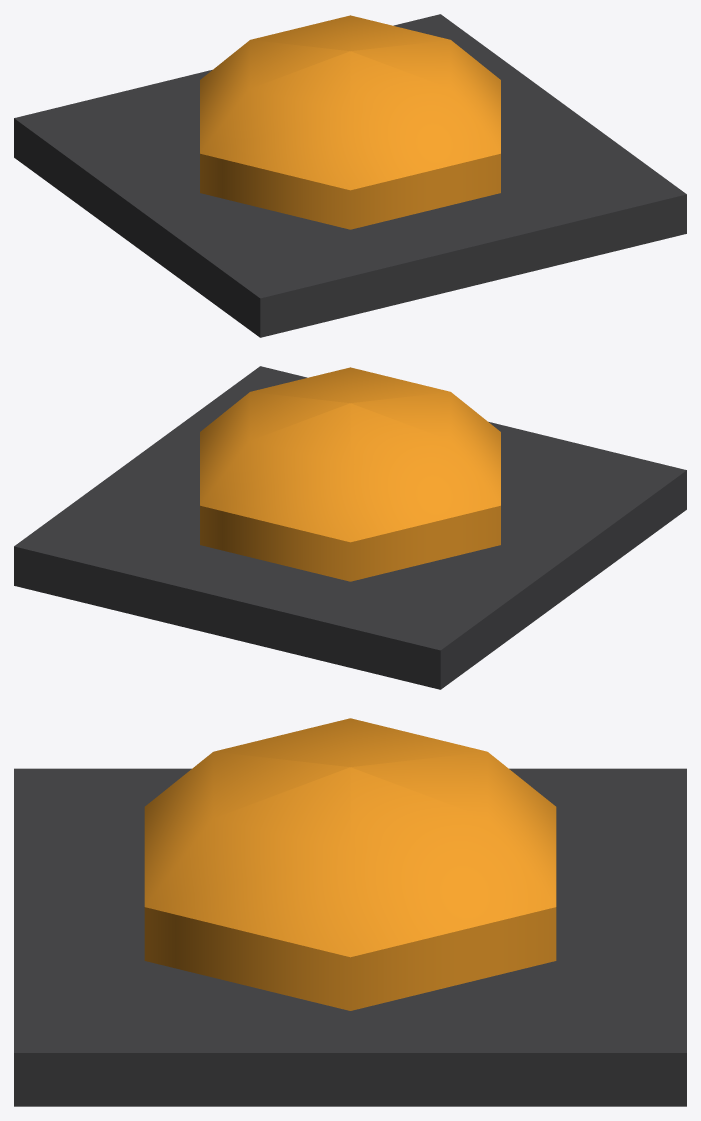
Rendered from boat20_beacon.obj.
3 views of the same model, one above another, from view 1: azimuth 30°, elevation 25°; view 2: azimuth 150°, elevation 25°; view 3: azimuth 270°, elevation 25° (orthographic). The views are drawn at different scales.
Visible parts, largest first — view 1: boat20_beacon; view 2: boat20_beacon; view 3: boat20_beacon.
Boxes of the visible parts, box(x1,y1,x2,y2) form: boat20_beacon: box(14, 14, 686, 337); boat20_beacon: box(14, 366, 686, 689); boat20_beacon: box(14, 718, 686, 1106).
Size of the model in its own units: 0.34 by 0.11 by 0.34.
